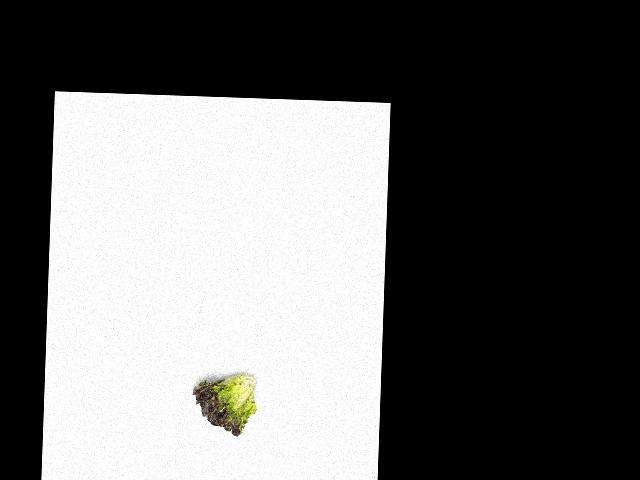lettuce: (187, 372, 260, 435)
